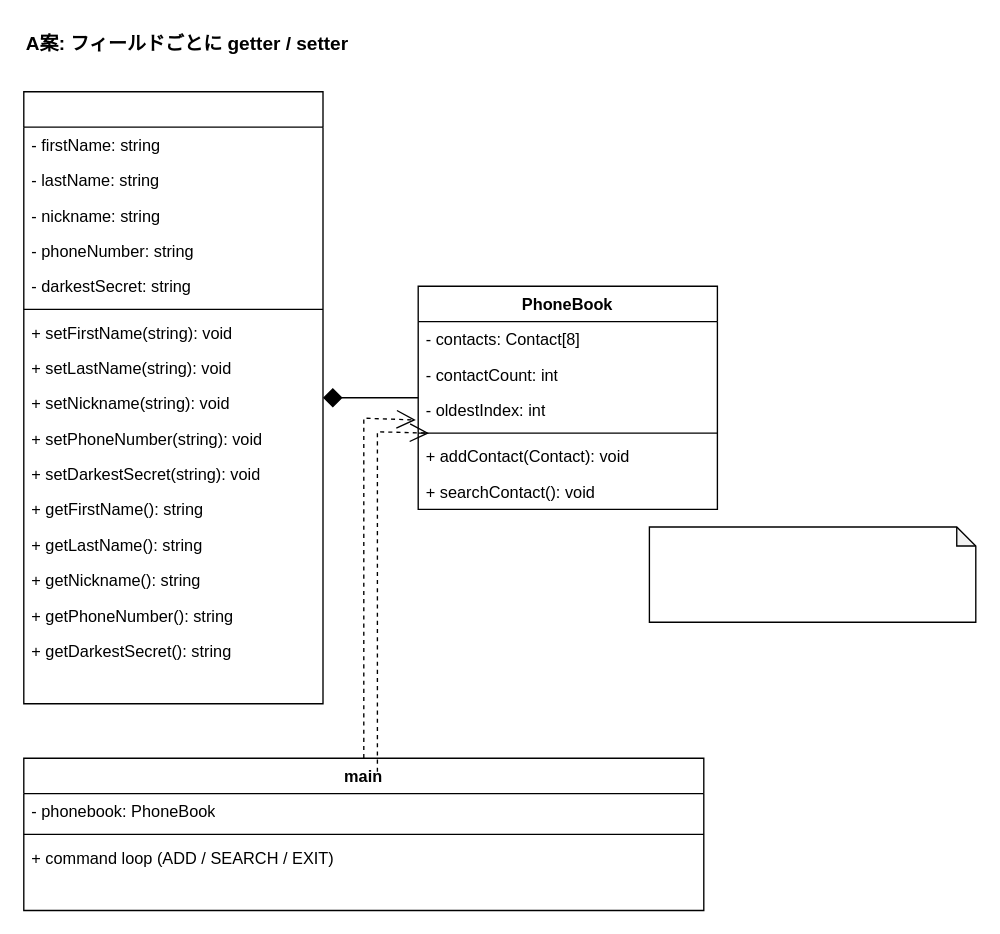
The diagram is 1000 pixels wide and 934 high, and some of its shapes have lost their labels. The shapes that lost their labels are listed below. From the top down, each one's box as (x1, y1, x2, y2) in pixels, then its label:
(22, 90, 323, 704): Contact
(648, 526, 976, 622): ADD: setter を5回呼んでから addContact SEARCH: getter を個別に呼ぶ
